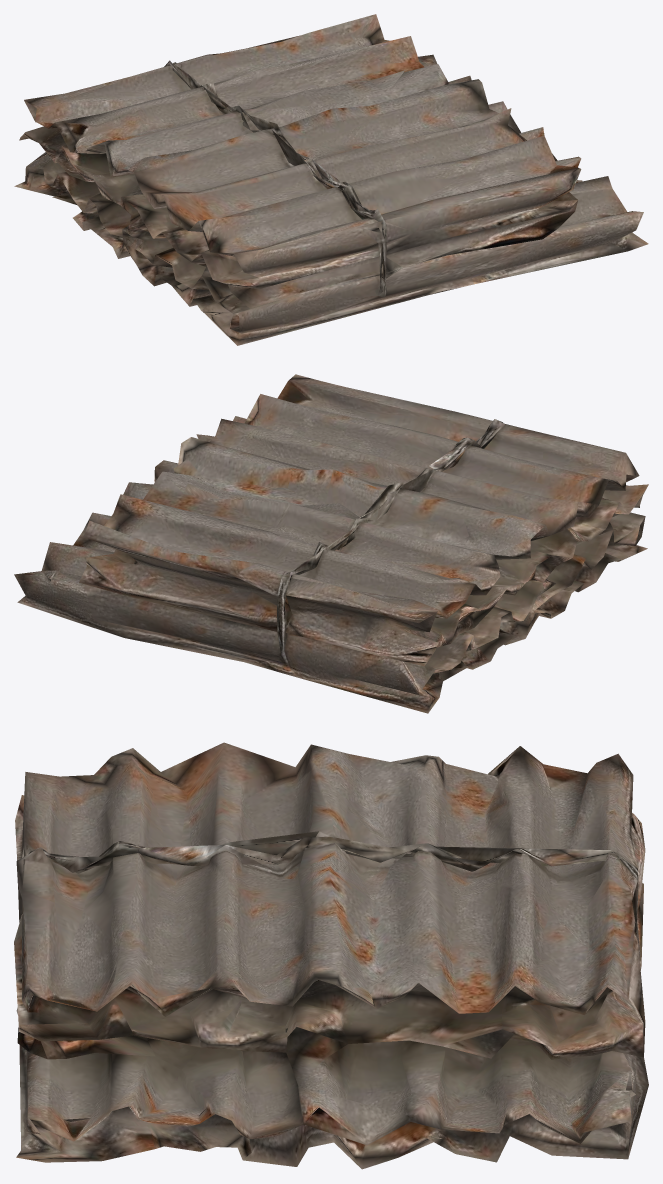
The model's file is sheet_metal.glb.
The picture shows the model from 3 angles, top to bottom: view 1: azimuth 30°, elevation 25°; view 2: azimuth 150°, elevation 25°; view 3: azimuth 270°, elevation 25°; orthographic projection. The views are drawn at different scales.
Visible parts, largest first — view 1: sheet_metal; view 2: sheet_metal; view 3: sheet_metal.
Part boxes in pixels (box(x1,y1,x2,y2)): sheet_metal: box(14, 14, 648, 345); sheet_metal: box(14, 374, 648, 713); sheet_metal: box(14, 742, 648, 1169).
Bounding box in the file's own units: 1 × 0.2499 × 0.9156.
1 material, 1 textured.
